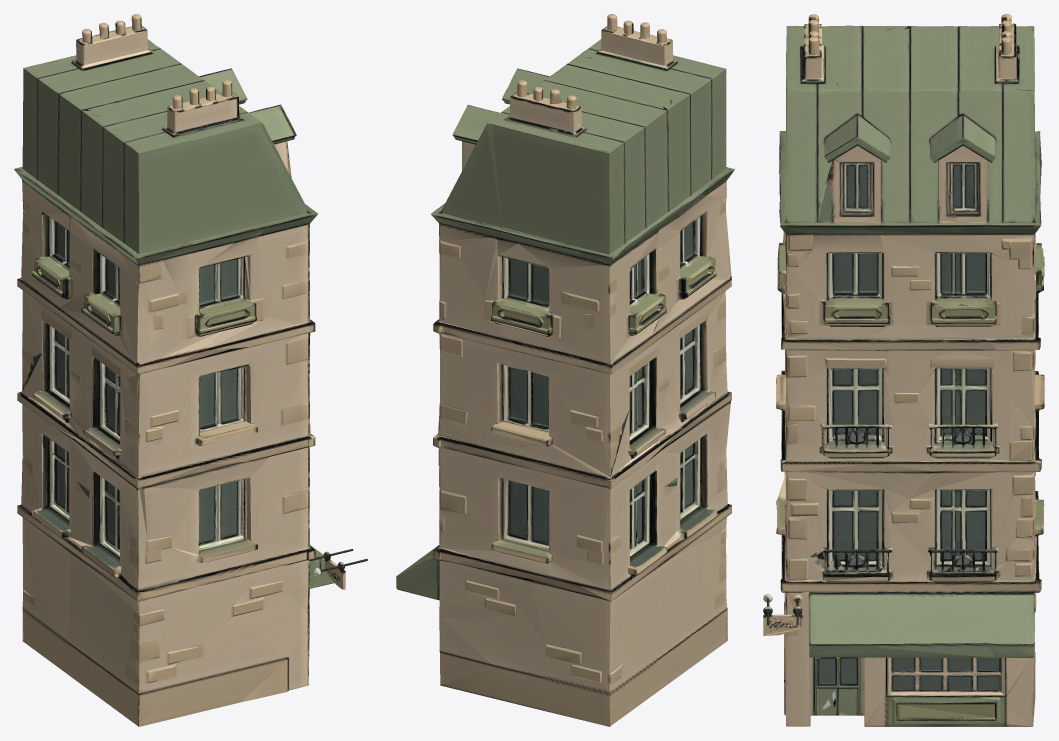
File: building2.glb
3 views of the same model, side by side, from view 1: azimuth 30°, elevation 25°; view 2: azimuth 150°, elevation 25°; view 3: azimuth 270°, elevation 25° (orthographic). The views are drawn at different scales.
Visible parts, largest first — view 1: output_unwrapped; view 2: output_unwrapped; view 3: output_unwrapped.
Part boxes in pixels (x1,y1,x2,y2): output_unwrapped: (14,14,367,726); output_unwrapped: (396,14,734,726); output_unwrapped: (763,14,1044,726).
Bounding box in the file's own units: 0.783 × 2 × 0.7811.
1 material, 1 textured.
